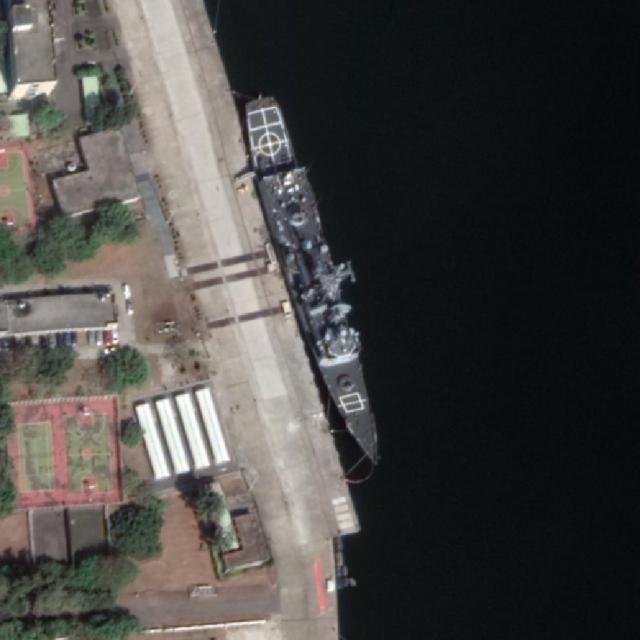Frigate: (239, 94, 394, 478)
